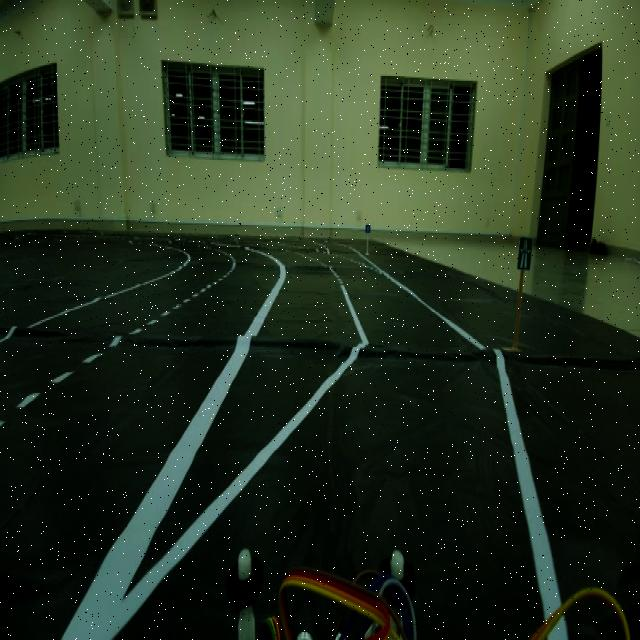highway_entry: (514, 218, 536, 280)
